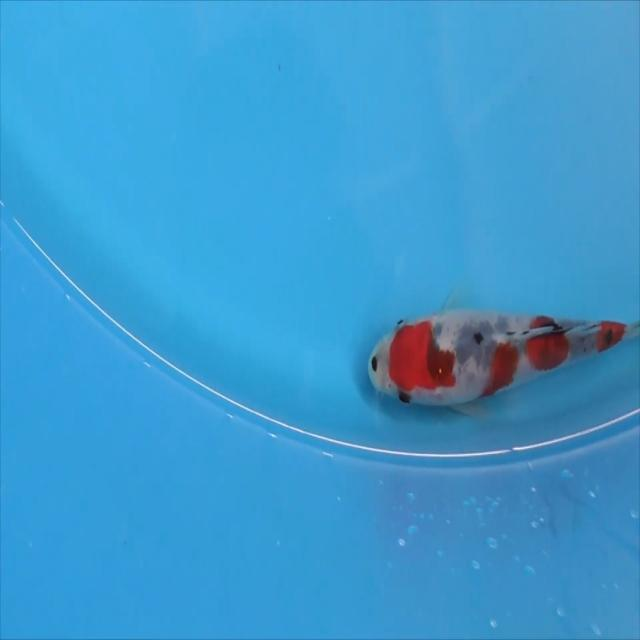Sanke: (367, 290, 639, 425)
